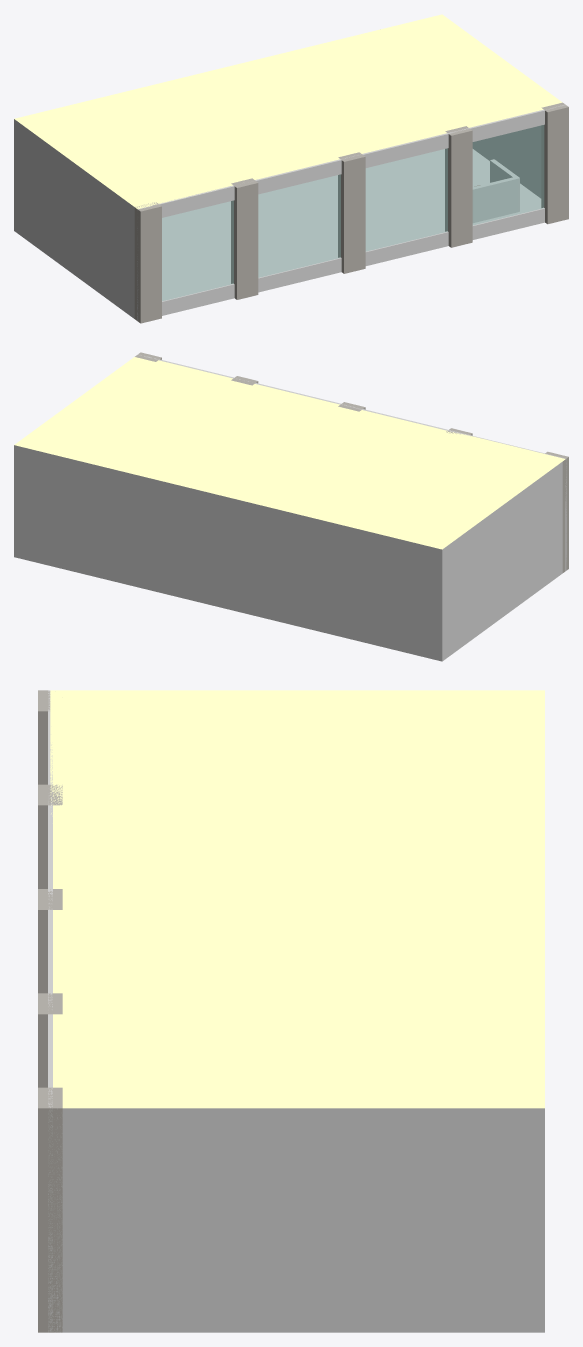
The model's file is OfficeV1.fbx.
3 views of the same model, one above another, from view 1: azimuth 30°, elevation 25°; view 2: azimuth 150°, elevation 25°; view 3: azimuth 270°, elevation 25° (orthographic). The views are drawn at different scales.
Parts seen in each view (by area): view 1: roof, Glass, Ground, Wall.001, Wall.003, Colum.001, Colum.002, Colum.003, Colum.004, Colum, Wall, Cubicle; view 2: roof, Wall.002, Wall.001, Colum.001, Wall.003; view 3: roof, Wall, Colum, Wall.003, Colum.002, Colum.004, Colum.003, Colum.001.
Part boxes in pixels (x1,y1,x2,y2): roof: (14,14,562,209); Glass: (162,125,543,300); Ground: (162,149,541,300); Wall.001: (14,119,134,318); Wall.003: (137,104,565,321); Colum.001: (134,202,161,323); Colum.002: (338,152,365,273); Colum.003: (445,126,472,247); Colum.004: (231,178,258,299); Colum: (541,102,568,224); Wall: (472,125,541,198); Cubicle: (472,159,519,222); roof: (14,357,565,549); Wall.002: (14,445,442,661); Wall.001: (442,462,562,661); Colum.001: (545,451,568,572); Wall.003: (137,354,566,571); roof: (50,690,544,1108); Wall: (50,1108,544,1332); Colum: (38,1087,62,1332); Wall.003: (48,690,52,1332); Colum.002: (38,889,62,993); Colum.004: (38,784,62,888); Colum.003: (38,993,62,1087); Colum.001: (38,690,50,784).
Size of the model in its own units: 4000 by 1001 by 2050.
